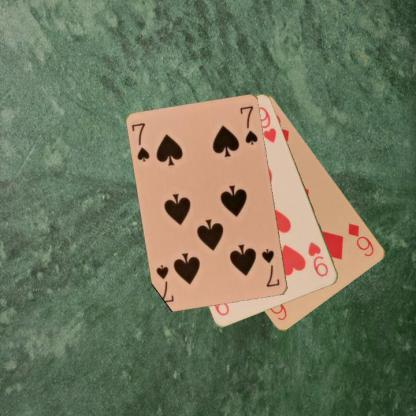6d: (346, 221, 376, 258)
7s: (130, 120, 152, 164), (260, 246, 282, 289)
9h: (306, 239, 330, 279)
